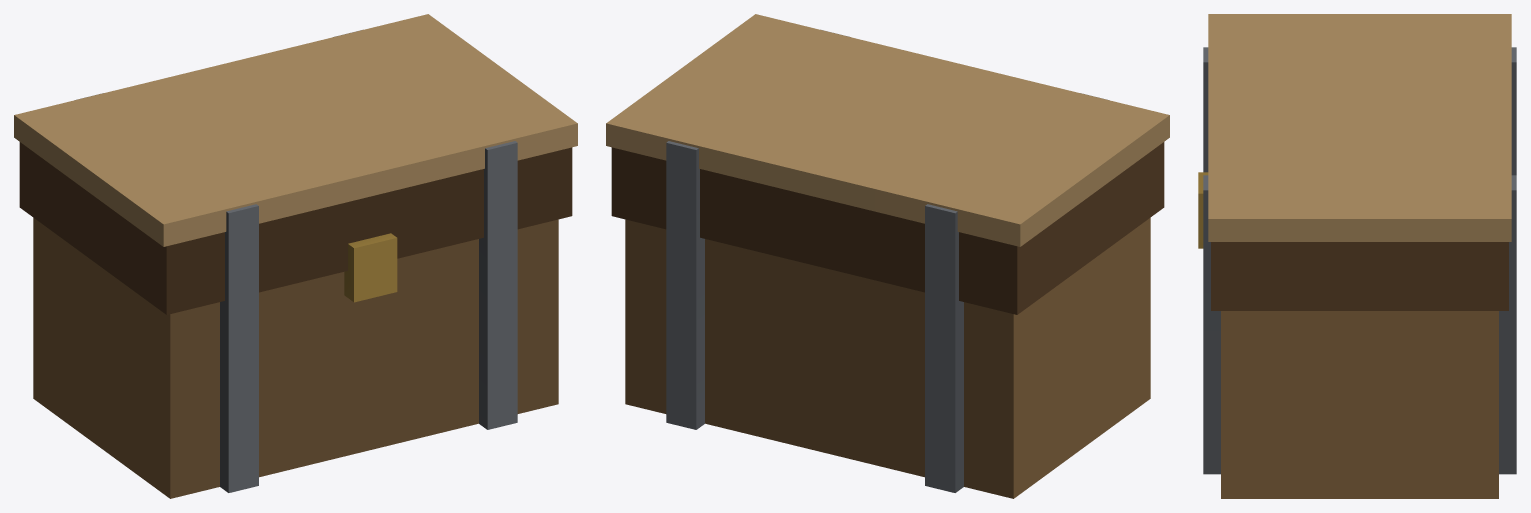
File: Chest.fbx
3 renders of one model, left to right at view 1: azimuth 30°, elevation 25°; view 2: azimuth 150°, elevation 25°; view 3: azimuth 270°, elevation 25°, orthographic.
Visible parts, largest first — view 1: Chest; view 2: Chest; view 3: Chest.
Part boxes in pixels (bbox=[...]): Chest: bbox=[14, 14, 577, 498]; Chest: bbox=[606, 14, 1169, 498]; Chest: bbox=[1198, 14, 1516, 498].
Size of the model in its own units: 0.96 by 0.625 by 0.63.
